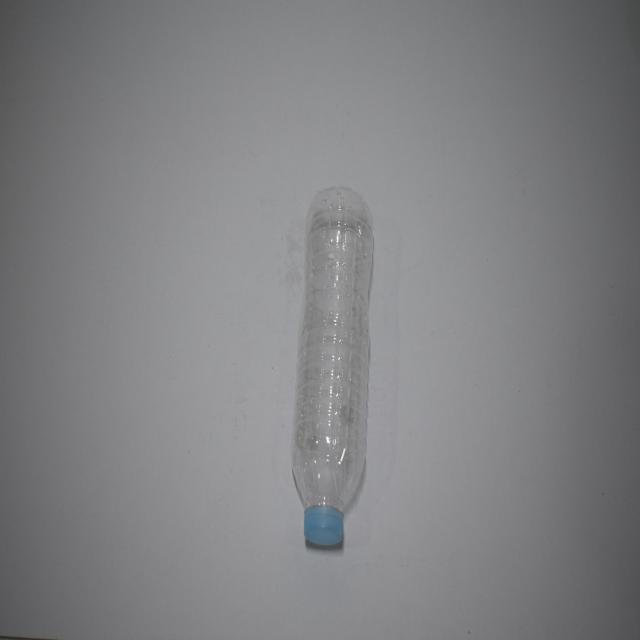bottle: (287, 180, 380, 571)
